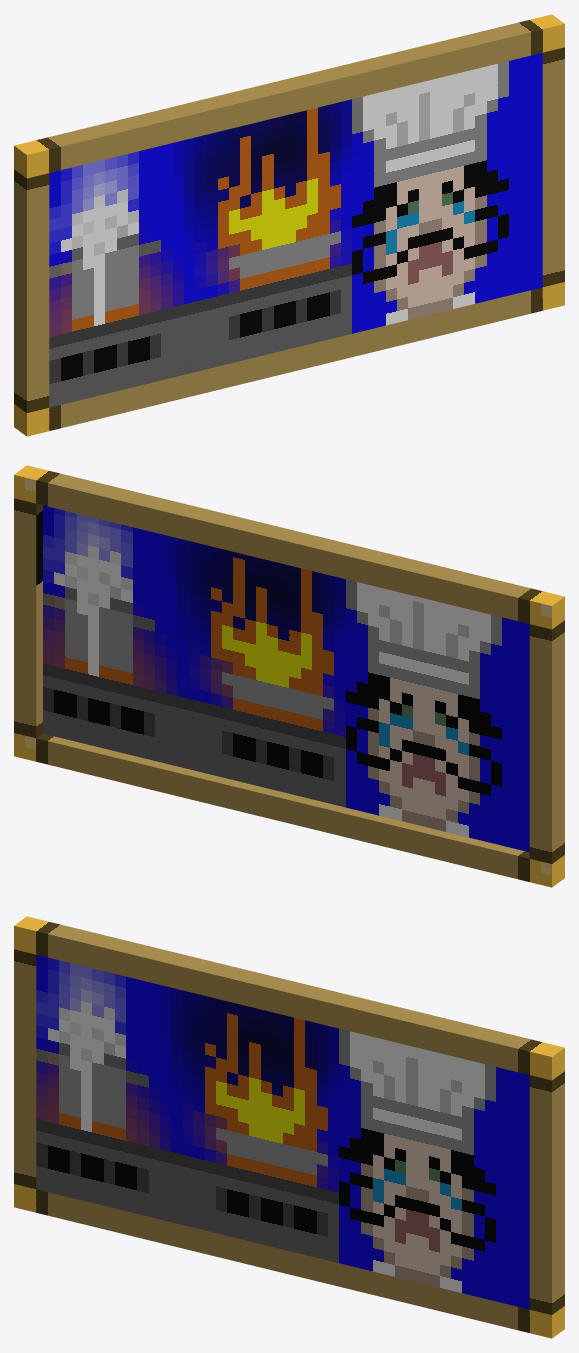
The model's file is Picture.obj.
3 renders of one model, top to bottom at view 1: azimuth 30°, elevation 25°; view 2: azimuth 150°, elevation 25°; view 3: azimuth 330°, elevation 25°, orthographic.
Visible parts, largest first — view 1: cube; view 2: cube; view 3: cube.
Boxes of the visible parts, x1,y1,x2,y2 form: cube: (14,14,564,436); cube: (14,465,564,887); cube: (14,916,564,1338).
Bounding box in the file's own units: 3 × 1.5 × 0.125.
1 material, 1 textured.
